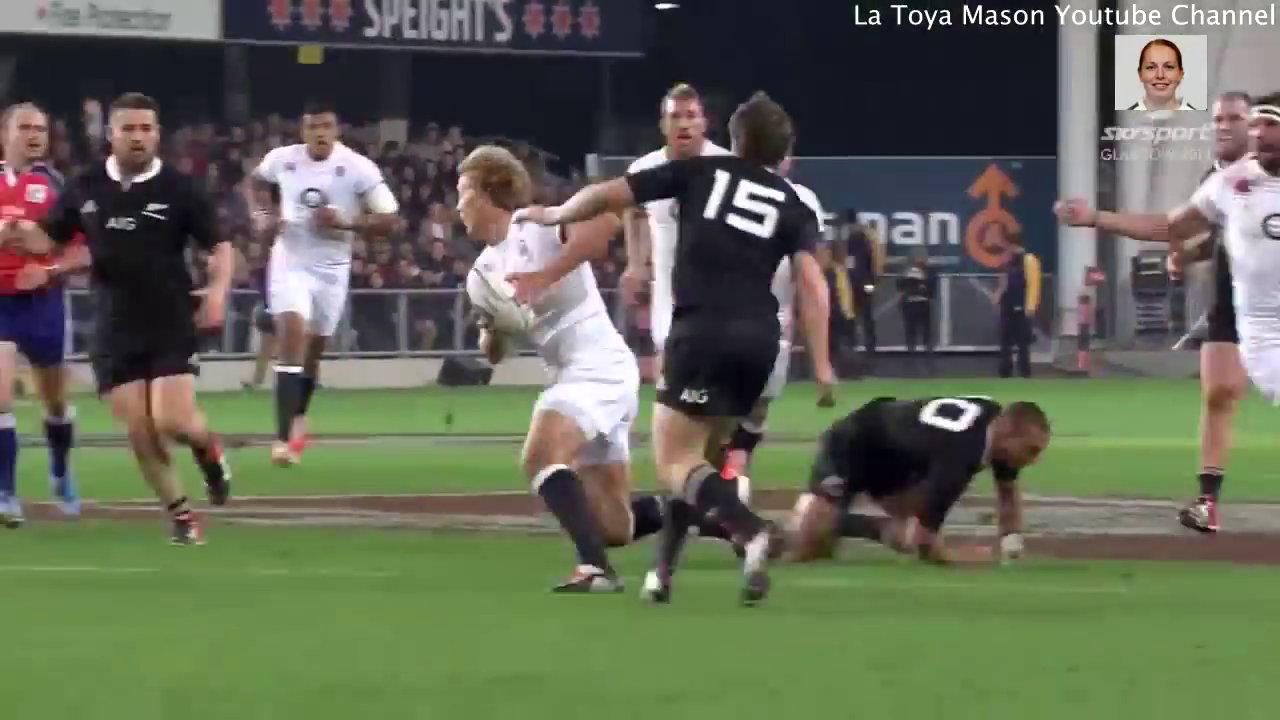player: (519, 89, 837, 618), (437, 140, 653, 609), (56, 83, 243, 550), (241, 99, 415, 477), (786, 396, 1057, 547), (1, 92, 87, 530), (1198, 62, 1280, 426)
